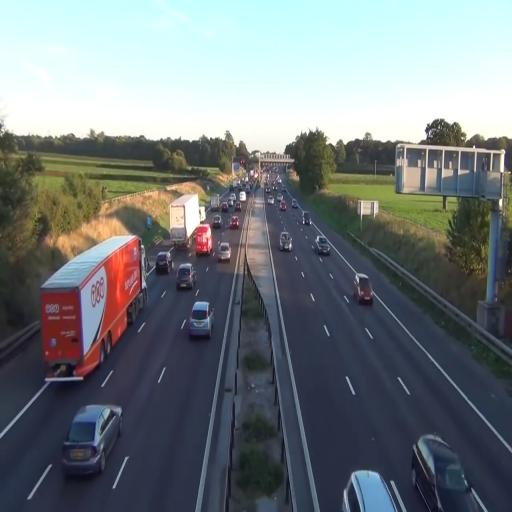vehicle: (40, 234, 146, 381), (411, 434, 488, 512), (61, 403, 123, 477), (343, 468, 407, 512), (170, 192, 202, 250), (170, 194, 200, 250), (187, 300, 214, 340), (353, 274, 373, 306), (176, 263, 196, 290), (155, 252, 171, 276), (316, 235, 332, 256), (279, 230, 293, 251), (218, 241, 231, 260), (229, 214, 240, 231)
